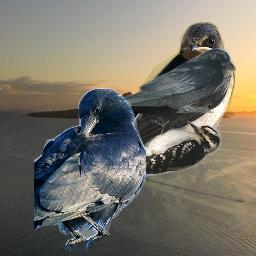Crow: (34, 88, 146, 252), (102, 48, 236, 113)
Swallow: (56, 22, 235, 165)
Woodpecker: (102, 120, 228, 179)
